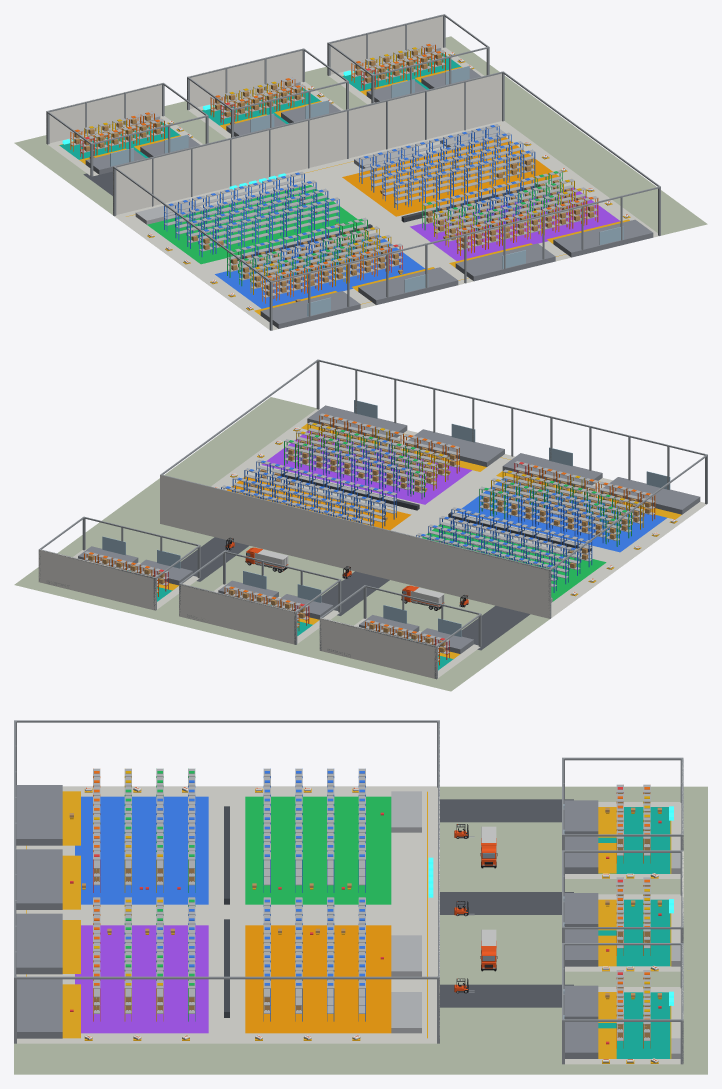
Rendered from dc_preview.glb.
3 renders of one model, top to bottom at view 1: azimuth 30°, elevation 25°; view 2: azimuth 150°, elevation 25°; view 3: azimuth 270°, elevation 25°, orthographic. The views are drawn at different scales.
Visible parts, largest first — view 1: WALL_W_BACK, GROUND_EXTERIOR, FLOOR_W, ZONE_W_D, ZONE_W_C, ZONE_W_A, ZONE_W_B, WALL_F1_BACK, WALL_F2_BACK, WALL_F3_BACK, DOCK_W-OU-02, DOCK_W-OU-04 (+11 smaller); view 2: GROUND_EXTERIOR, WALL_W_BACK, FLOOR_W, WALL_F3_BACK, WALL_F2_BACK, WALL_F1_BACK, ZONE_W_A, ZONE_W_B, ZONE_W_C, DOCK_W-IN-03, DOCK_W-IN-01, ZONE_W_D (+14 smaller); view 3: GROUND_EXTERIOR, FLOOR_W, ZONE_W_C, ZONE_W_D, ZONE_W_A, ZONE_W_B, ROAD_01, ZONE_F3_Z1, ZONE_F1_Z1, ZONE_F2_Z1, DOCK_W-IN-03, DOCK_W-IN-01 (+29 smaller).
Boxes of the visible parts, x1,y1,x2,y2 form: WALL_W_BACK: (113, 73, 501, 215); GROUND_EXTERIOR: (14, 36, 707, 235); FLOOR_W: (114, 121, 658, 330); ZONE_W_D: (342, 137, 559, 216); ZONE_W_C: (147, 185, 363, 264); ZONE_W_A: (215, 235, 424, 308); ZONE_W_B: (410, 187, 620, 260); WALL_F1_BACK: (46, 82, 163, 143); WALL_F2_BACK: (187, 49, 302, 108); WALL_F3_BACK: (330, 14, 442, 74); DOCK_W-OU-02: (358, 267, 458, 304); DOCK_W-OU-04: (553, 219, 653, 257); GROUND_EXTERIOR: (14, 397, 549, 691); WALL_W_BACK: (160, 475, 550, 618); FLOOR_W: (211, 409, 706, 617); WALL_F3_BACK: (38, 549, 155, 610); WALL_F2_BACK: (179, 584, 296, 644); WALL_F1_BACK: (319, 618, 436, 678); ZONE_W_A: (456, 478, 667, 552); ZONE_W_B: (261, 430, 471, 504); ZONE_W_C: (422, 524, 606, 601); DOCK_W-IN-03: (405, 429, 504, 466); DOCK_W-IN-01: (600, 477, 700, 514); ZONE_W_D: (227, 477, 411, 530); GROUND_EXTERIOR: (14, 786, 707, 1074); FLOOR_W: (16, 786, 437, 1043); ZONE_W_C: (245, 796, 391, 904); ZONE_W_D: (245, 925, 391, 1033); ZONE_W_A: (75, 796, 208, 904); ZONE_W_B: (75, 925, 208, 1033); ROAD_01: (440, 799, 573, 822); ZONE_F3_Z1: (598, 992, 670, 1058); ZONE_F1_Z1: (598, 807, 670, 873); ZONE_F2_Z1: (598, 899, 670, 966); DOCK_W-IN-03: (16, 913, 62, 974); DOCK_W-IN-01: (16, 785, 62, 845).
Bounding box in the file's own units: 112 × 12 × 114.
